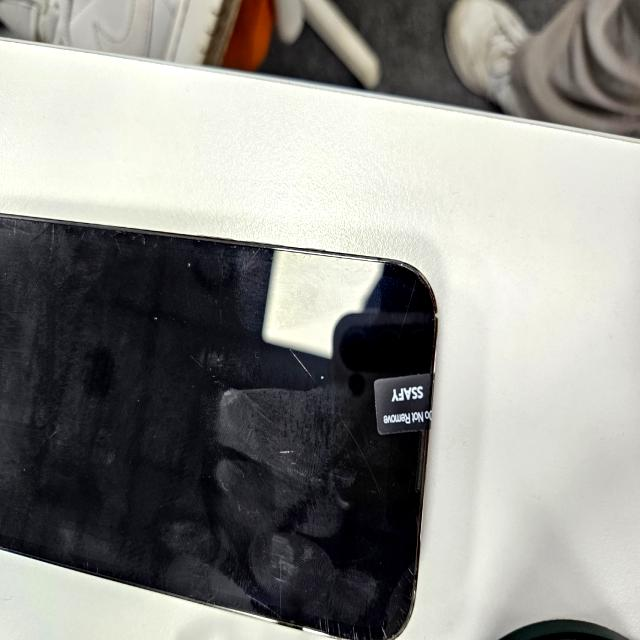phone: (2, 208, 438, 640)
sticker: (376, 374, 432, 434)
